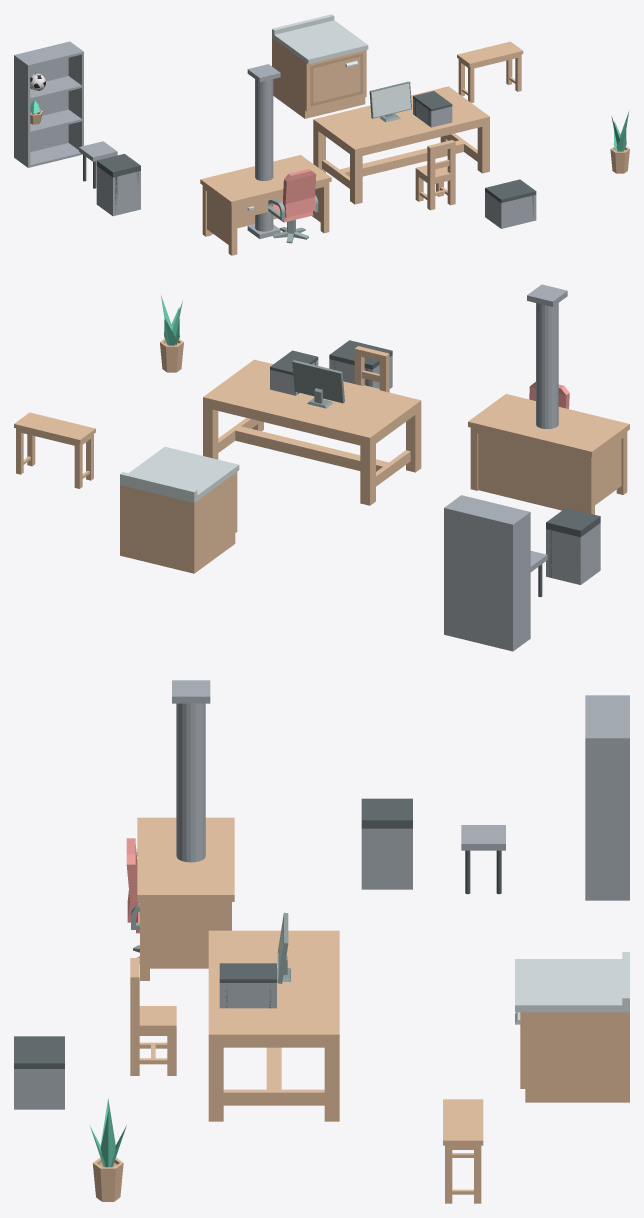
3 renders of one model, top to bottom at view 1: azimuth 30°, elevation 25°; view 2: azimuth 150°, elevation 25°; view 3: azimuth 270°, elevation 25°, orthographic. The views are drawn at different scales.
Visible parts, largest first — view 1: table_green__table(Clone), cabinet_blue__kitchenCabinet(Clone), desk_blue__desk(Clone), column_cyan__column_cyan shaft, cabinet_blue__door, chair_cyan__chair(Clone), shelf_orange__shelf_orange back, sidetable_brown__sideTable(Clone), deskchair_black__chair, shelf_orange__shelf_orange side_l, bin_gray__bin_gray shell, crate_red__crate_red shell (+15 smaller); view 2: table_green__table(Clone), desk_blue__desk(Clone), cabinet_blue__kitchenCabinet(Clone), shelf_orange__shelf_orange back, sidetable_brown__sideTable(Clone), column_cyan__column_cyan shaft, shelf_orange__shelf_orange side_l, bin_gray__bin_gray shell, monitor_gray__computerScreen(Clone), chair_cyan__chair(Clone), shelf_orange__shelf_orange board3, bin_gray__bin_gray lid (+7 smaller); view 3: table_green__table(Clone), cabinet_blue__kitchenCabinet(Clone), desk_blue__desk(Clone), shelf_orange__shelf_orange side_r, column_cyan__column_cyan shaft, bin_gray__bin_gray shell, sidetable_brown__sideTable(Clone), chair_cyan__chair(Clone), crate_red__crate_red shell, shelf_orange__shelf_orange board3, crate_red__crate_red lid, bin_gray__bin_gray lid (+7 smaller).
Part boxes in pixels (left/top/right/bottom): table_green__table(Clone): left=313, top=86, right=489, bottom=204; cabinet_blue__kitchenCabinet(Clone): left=272, top=14, right=368, bottom=118; desk_blue__desk(Clone): left=200, top=155, right=331, bottom=255; column_cyan__column_cyan shaft: left=255, top=79, right=273, bottom=231; cabinet_blue__door: left=310, top=53, right=362, bottom=106; chair_cyan__chair(Clone): left=415, top=140, right=455, bottom=210; shelf_orange__shelf_orange back: left=16, top=42, right=68, bottom=151; sidetable_brown__sideTable(Clone): left=457, top=41, right=523, bottom=102; deskchair_black__chair: left=268, top=169, right=318, bottom=222; shelf_orange__shelf_orange side_l: left=14, top=54, right=30, bottom=167; bin_gray__bin_gray shell: left=96, top=166, right=140, bottom=216; crate_red__crate_red shell: left=485, top=191, right=536, bottom=228; table_green__table(Clone): left=203, top=359, right=421, bottom=505; desk_blue__desk(Clone): left=468, top=394, right=629, bottom=514; cabinet_blue__kitchenCabinet(Clone): left=120, top=446, right=239, bottom=573; shelf_orange__shelf_orange back: left=446, top=508, right=510, bottom=650; sidetable_brown__sideTable(Clone): left=14, top=412, right=95, bottom=488; column_cyan__column_cyan shaft: left=536, top=303, right=558, bottom=428; shelf_orange__shelf_orange side_l: left=510, top=511, right=530, bottom=651; bin_gray__bin_gray shell: left=546, top=523, right=600, bottom=584; monitor_gray__computerScreen(Clone): left=292, top=360, right=344, bottom=408; chair_cyan__chair(Clone): left=354, top=346, right=389, bottom=392; shelf_orange__shelf_orange board3: left=448, top=496, right=527, bottom=523; bin_gray__bin_gray lid: left=546, top=508, right=600, bottom=537; table_green__table(Clone): left=208, top=930, right=339, bottom=1121; cabinet_blue__kitchenCabinet(Clone): left=515, top=952, right=629, bottom=1102; desk_blue__desk(Clone): left=137, top=817, right=234, bottom=980; shelf_orange__shelf_orange side_r: left=585, top=737, right=629, bottom=900; column_cyan__column_cyan shaft: left=176, top=703, right=205, bottom=862; bin_gray__bin_gray shell: left=361, top=828, right=412, bottom=889; sidetable_brown__sideTable(Clone): left=443, top=1099, right=483, bottom=1203; chair_cyan__chair(Clone): left=130, top=958, right=176, bottom=1075; crate_red__crate_red shell: left=14, top=1069, right=64, bottom=1109; shelf_orange__shelf_orange board3: left=585, top=697, right=627, bottom=736; crate_red__crate_red lid: left=14, top=1036, right=64, bottom=1068; bin_gray__bin_gray lid: left=361, top=798, right=412, bottom=828.
Bounding box in the file's own units: 6.43 × 2.2 × 4.82.
